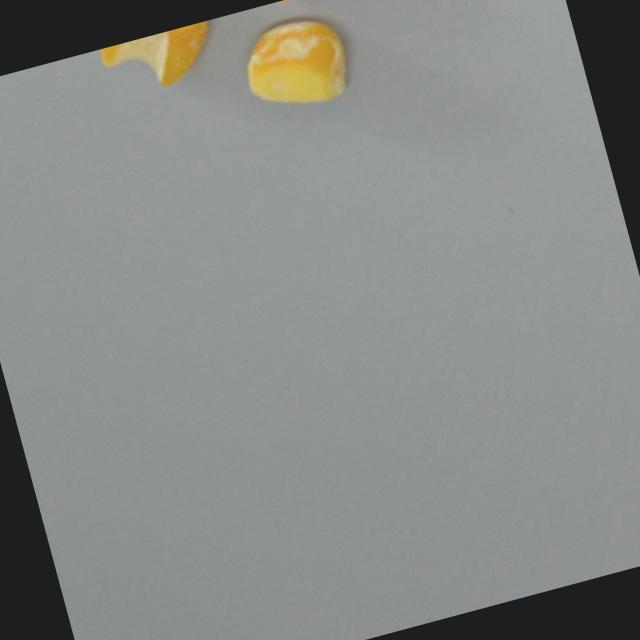pelicula: (236, 8, 359, 122), (94, 19, 224, 105)
